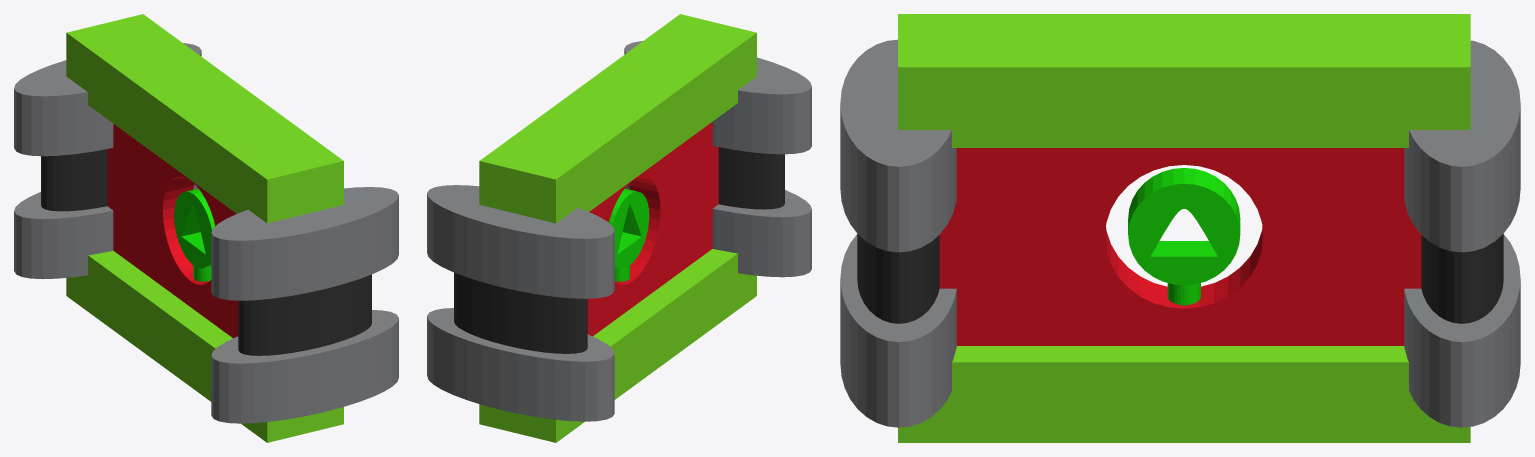
File: door.fbx
3 renders of one model, left to right at view 1: azimuth 30°, elevation 25°; view 2: azimuth 150°, elevation 25°; view 3: azimuth 270°, elevation 25°, orthographic. The views are drawn at different scales.
Parts seen in each view (by area): view 1: Cube.001, Cylinder.002, Cylinder.004, Cube.002, Cube, Cylinder.003, Cylinder.005, Cylinder.007, Cylinder.006, Cylinder; view 2: Cube.001, Cylinder.005, Cylinder.007, Cube.002, Cube, Cylinder.006, Cylinder.002, Cylinder.004, Cylinder.003, Cylinder; view 3: Cube, Cube.001, Cube.002, Cylinder.002, Cylinder.005, Cylinder.004, Cylinder.007, Cylinder, Cylinder.003, Cylinder.006, Cylinder.001.
Boxes of the visible parts, x1,y1,x2,y2 form: Cube.001: (66, 14, 343, 223); Cylinder.002: (211, 187, 398, 300); Cylinder.004: (211, 310, 398, 423); Cube.002: (66, 250, 343, 442); Cube: (107, 124, 238, 338); Cylinder.003: (238, 274, 371, 355); Cylinder.005: (14, 43, 201, 156); Cylinder.007: (14, 184, 198, 279); Cylinder.006: (41, 149, 107, 211); Cylinder: (174, 188, 214, 268); Cube.001: (479, 14, 756, 223); Cylinder.005: (427, 185, 614, 298); Cylinder.007: (427, 308, 614, 421); Cube.002: (479, 249, 756, 442); Cube: (587, 122, 718, 336); Cylinder.006: (454, 272, 587, 353); Cylinder.002: (624, 41, 811, 154); Cylinder.004: (625, 184, 811, 277); Cylinder.003: (718, 147, 784, 209); Cylinder: (609, 188, 649, 268); Cube: (939, 148, 1421, 345); Cube.001: (898, 14, 1470, 147); Cube.002: (898, 346, 1470, 442); Cylinder.002: (840, 39, 956, 252); Cylinder.005: (1404, 40, 1520, 252); Cylinder.004: (840, 234, 956, 427); Cylinder.007: (1404, 234, 1520, 427); Cylinder: (1128, 168, 1240, 285); Cylinder.003: (857, 234, 939, 323); Cylinder.006: (1421, 234, 1503, 323); Cylinder.001: (1167, 283, 1200, 305).
Size of the model in its own units: 678 by 932 by 1530.
